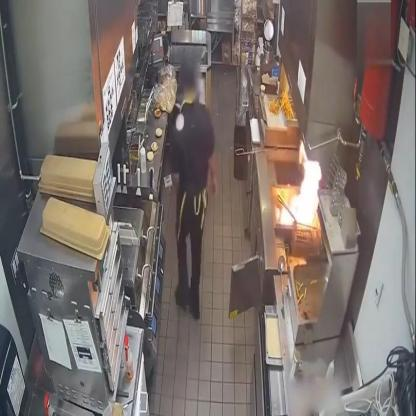fire: (282, 137, 323, 224)
